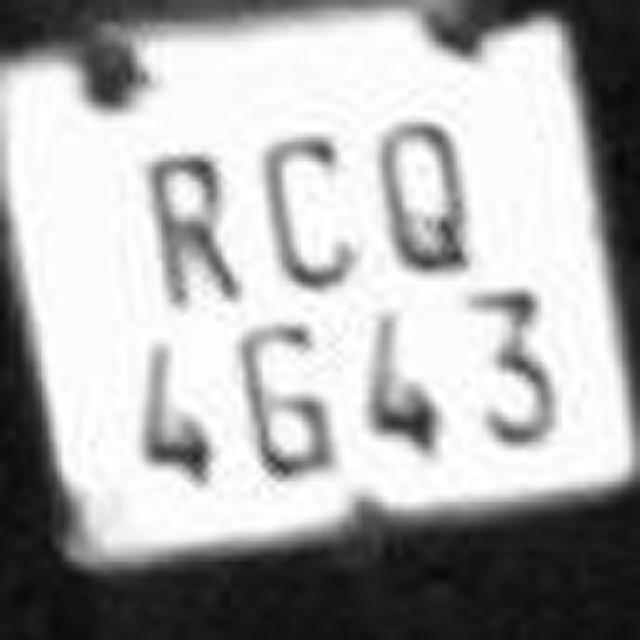3: (424, 264, 584, 464)
4: (335, 284, 460, 468), (116, 315, 232, 500)
C: (244, 116, 384, 289)
G: (212, 300, 348, 488)
O: (356, 84, 504, 291)
R: (120, 144, 268, 324)
